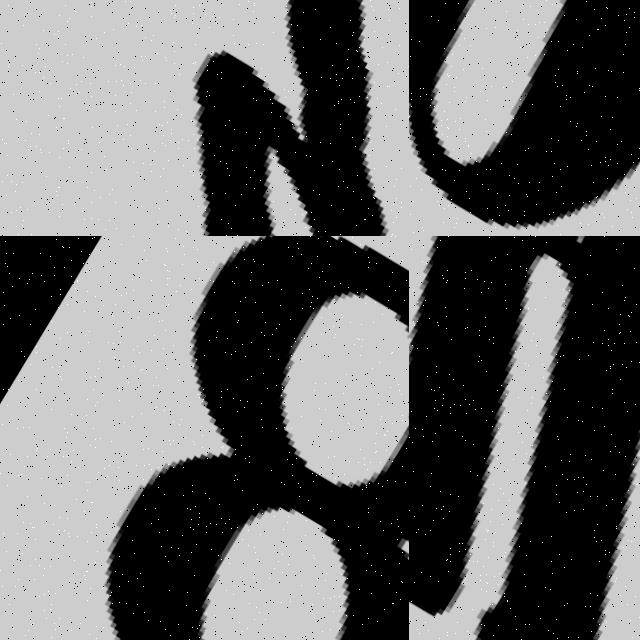8: (0, 236, 409, 640)
A: (409, 0, 640, 236)
B: (191, 0, 385, 236)
H: (409, 236, 640, 640)
